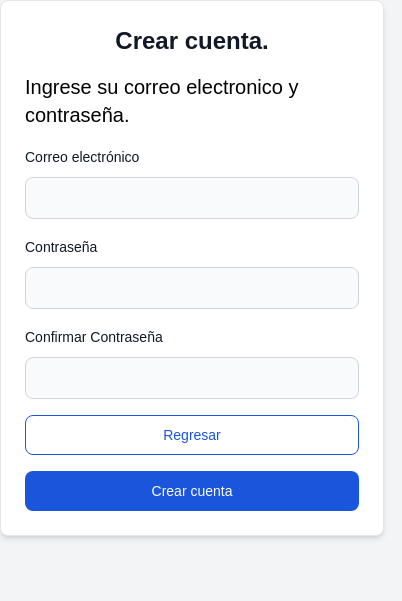
it: UserRegistration › shows validation error for password missing special character
The image size is (402, 601).
Type "test@example.com" into the field labelled "Correo electrónico" at point(192, 198), box [25,177,359,219]
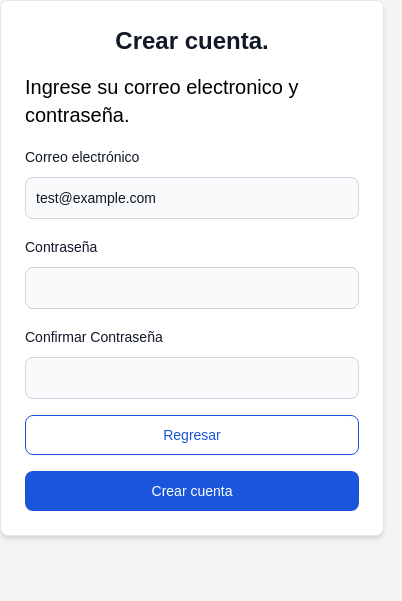
Type "ValidPassword123" into the password field with test id "password" at point(192, 288), box [25,267,359,309]
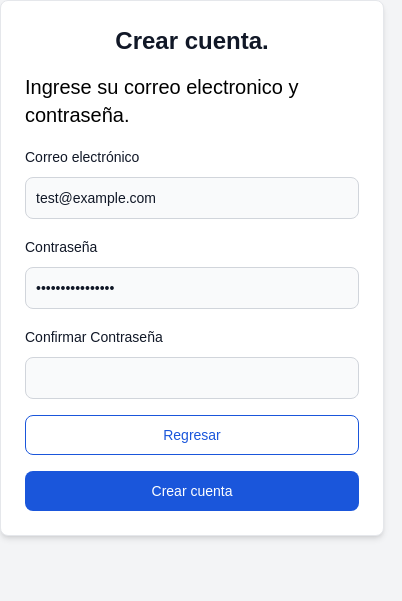
Type "ValidPassword123" into the password field with test id "confirmPassword" at point(192, 378), box [25,357,359,399]
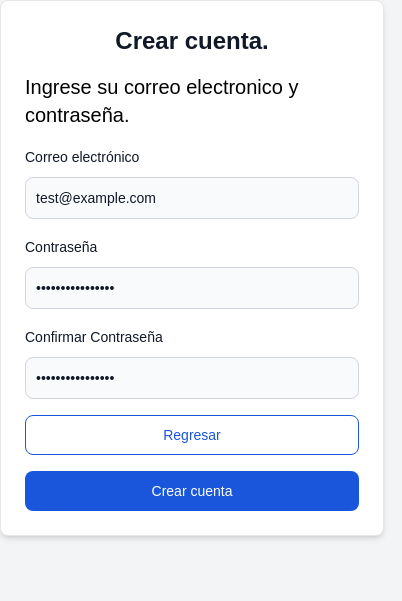
Click the button "Crear cuenta" at point(192, 491), box [25,471,359,511]
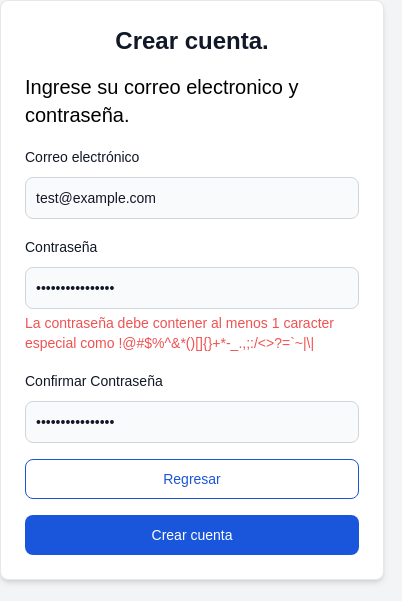
Expected: the text "La contraseña debe contener al menos 1 caracter especial" is shown, [25,315,334,351]
